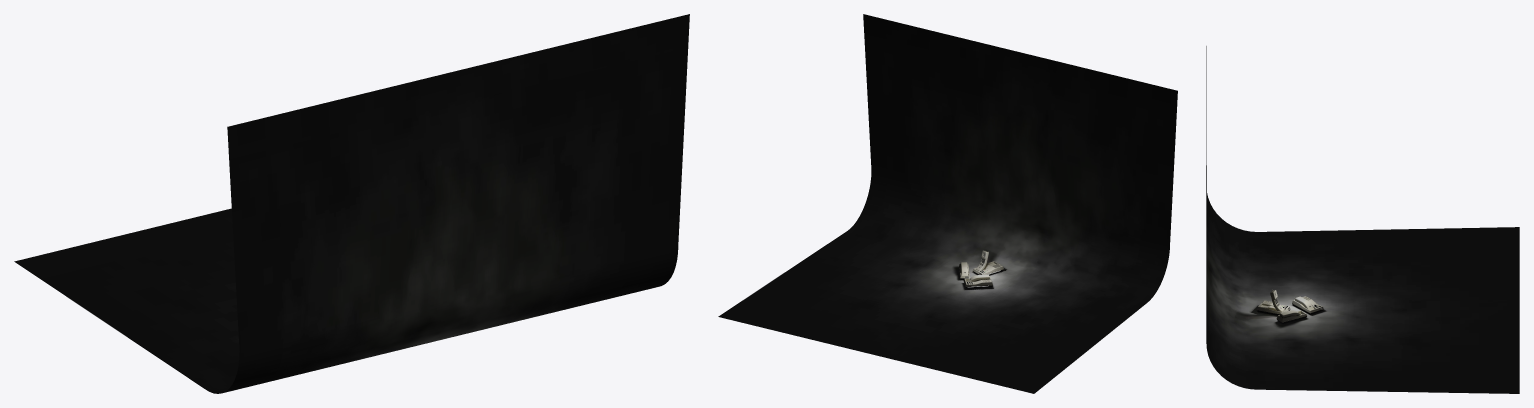
The model's file is phones.glb.
3 views of the same model, side by side, from view 1: azimuth 30°, elevation 25°; view 2: azimuth 150°, elevation 25°; view 3: azimuth 270°, elevation 25° (orthographic). The views are drawn at different scales.
Visible parts, largest first — view 1: background; view 2: background, phones; view 3: background, phones.
Boxes of the visible parts, x1,y1,x2,y2 form: background: (14, 14, 689, 393); background: (718, 14, 1177, 393); phones: (959, 250, 1003, 286); background: (1206, 46, 1519, 393); phones: (1256, 289, 1323, 322).
Bounding box in the file's own units: 129 × 77.04 × 102.
Materials: 8 (4 with a texture image).
